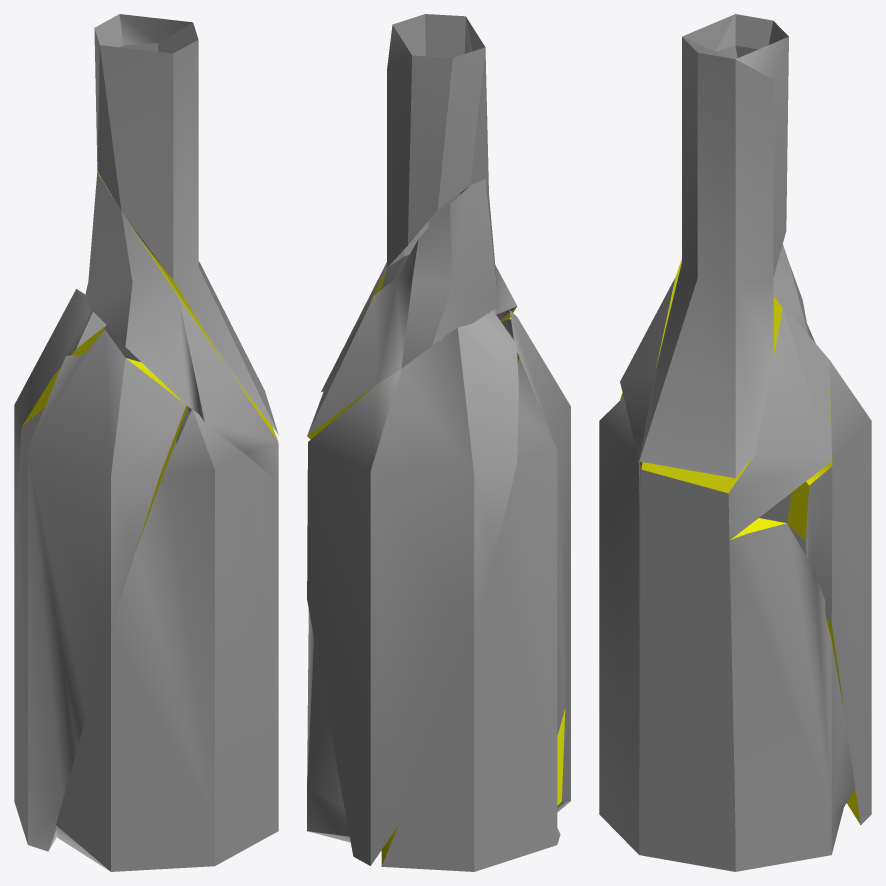
The model's file is bottleBroken.fbx.
3 views of the same model, side by side, from view 1: azimuth 30°, elevation 25°; view 2: azimuth 150°, elevation 25°; view 3: azimuth 270°, elevation 25° (orthographic).
Parts seen in each view (by area): view 1: bottleShard4, bottleShard5, bottleShard1, bottleShard3, bottleShard2; view 2: bottleShard2, bottleShard5, bottleShard1, bottleShard3, bottleShard4; view 3: bottleShard4, bottleShard1, bottleShard3, bottleShard2, bottleShard5.
Part boxes in pixels (box(x1,y1,x2,y2)): bottleShard4: box(56, 409, 278, 871); bottleShard5: box(14, 329, 188, 851); bottleShard1: box(94, 14, 278, 434); bottleShard3: box(85, 171, 278, 481); bottleShard2: box(14, 289, 191, 563); bottleShard2: box(307, 310, 518, 865); bottleShard5: box(381, 310, 570, 871); bottleShard1: box(321, 14, 488, 392); bottleShard3: box(307, 179, 517, 439); bottleShard4: box(307, 562, 570, 842); bottleShard4: box(599, 397, 855, 871); bottleShard1: box(639, 14, 788, 478); bottleShard3: box(620, 244, 831, 540); bottleShard2: box(787, 324, 871, 825); bottleShard5: box(620, 393, 806, 556).
Size of the model in its own units: 20 by 63.03 by 20.
